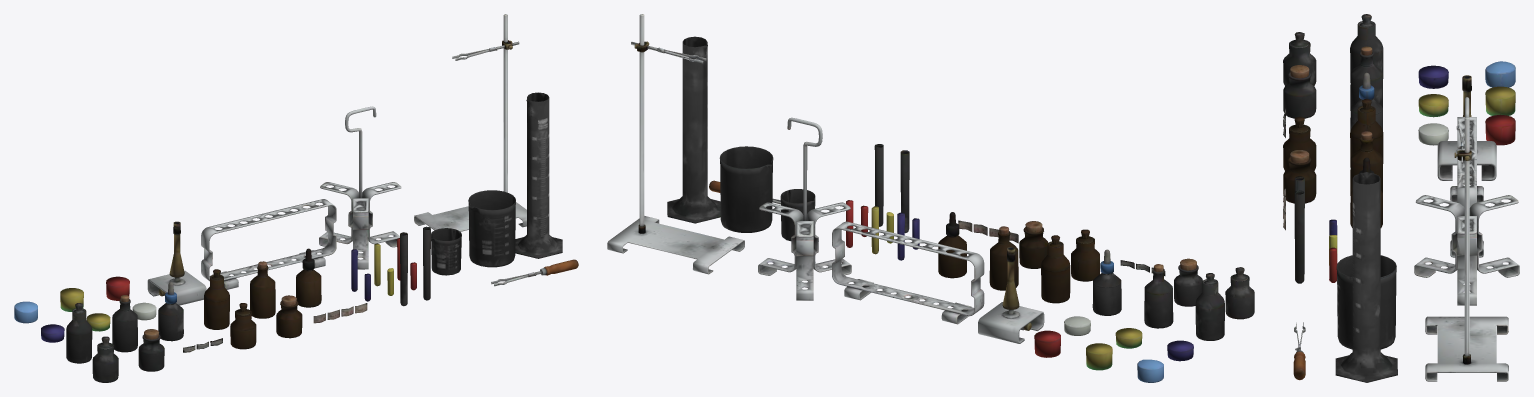
File: chemistry_set.glb
3 views of the same model, side by side, from view 1: azimuth 30°, elevation 25°; view 2: azimuth 150°, elevation 25°; view 3: azimuth 270°, elevation 25° (orthographic). The views are drawn at different scales.
Visible parts, largest first — view 1: chemistry_set_beaker_large, chemistry_set_test_tube_content_b; view 2: chemistry_set_beaker_large, chemistry_set_test_tube_content_b; view 3: chemistry_set_beaker_large, chemistry_set_test_tube_content_b.
Boxes of the visible parts, bbox=[...] form: chemistry_set_beaker_large: bbox=[41, 92, 562, 382]; chemistry_set_test_tube_content_b: bbox=[14, 14, 578, 339]; chemistry_set_beaker_large: bbox=[667, 36, 1254, 370]; chemistry_set_test_tube_content_b: bbox=[607, 14, 1196, 382]; chemistry_set_beaker_large: bbox=[1283, 14, 1515, 382]; chemistry_set_test_tube_content_b: bbox=[1290, 46, 1519, 381].
Size of the model in its own units: 1.08 by 0.429 by 0.3539.
Materials: 2 (2 with a texture image).
